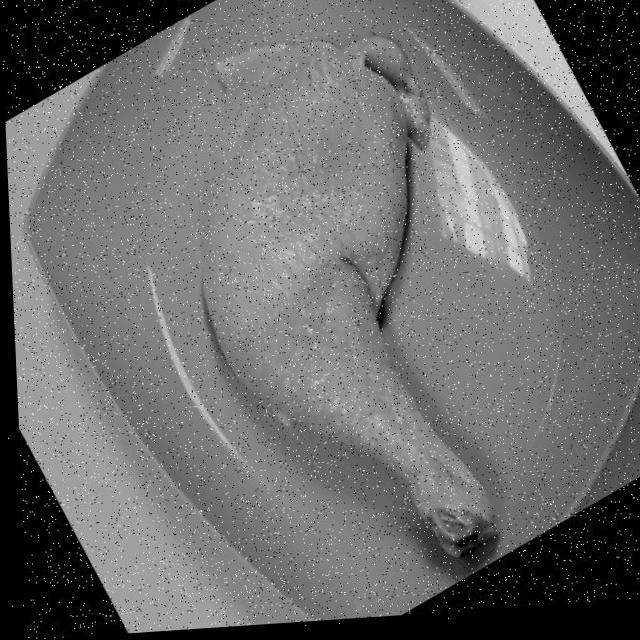quater: (200, 36, 520, 568)
